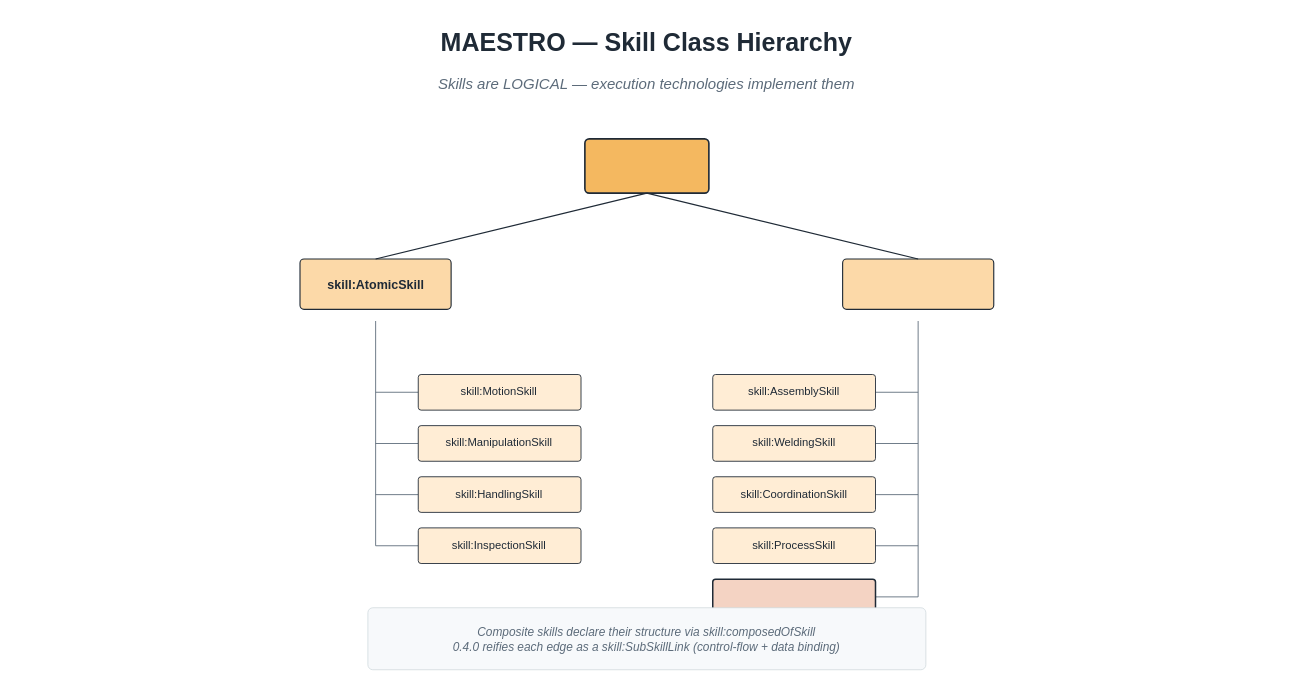
This 1293x693 diagram has some shape labels left out. The shapes that lost their labels are listed below. From the top down, each one's centre as x and y in pixels, then its label:
the point at 646,165: core:Skill
the point at 918,283: skill:CompositeSkill
the point at 793,596: skill:TransferSkill
